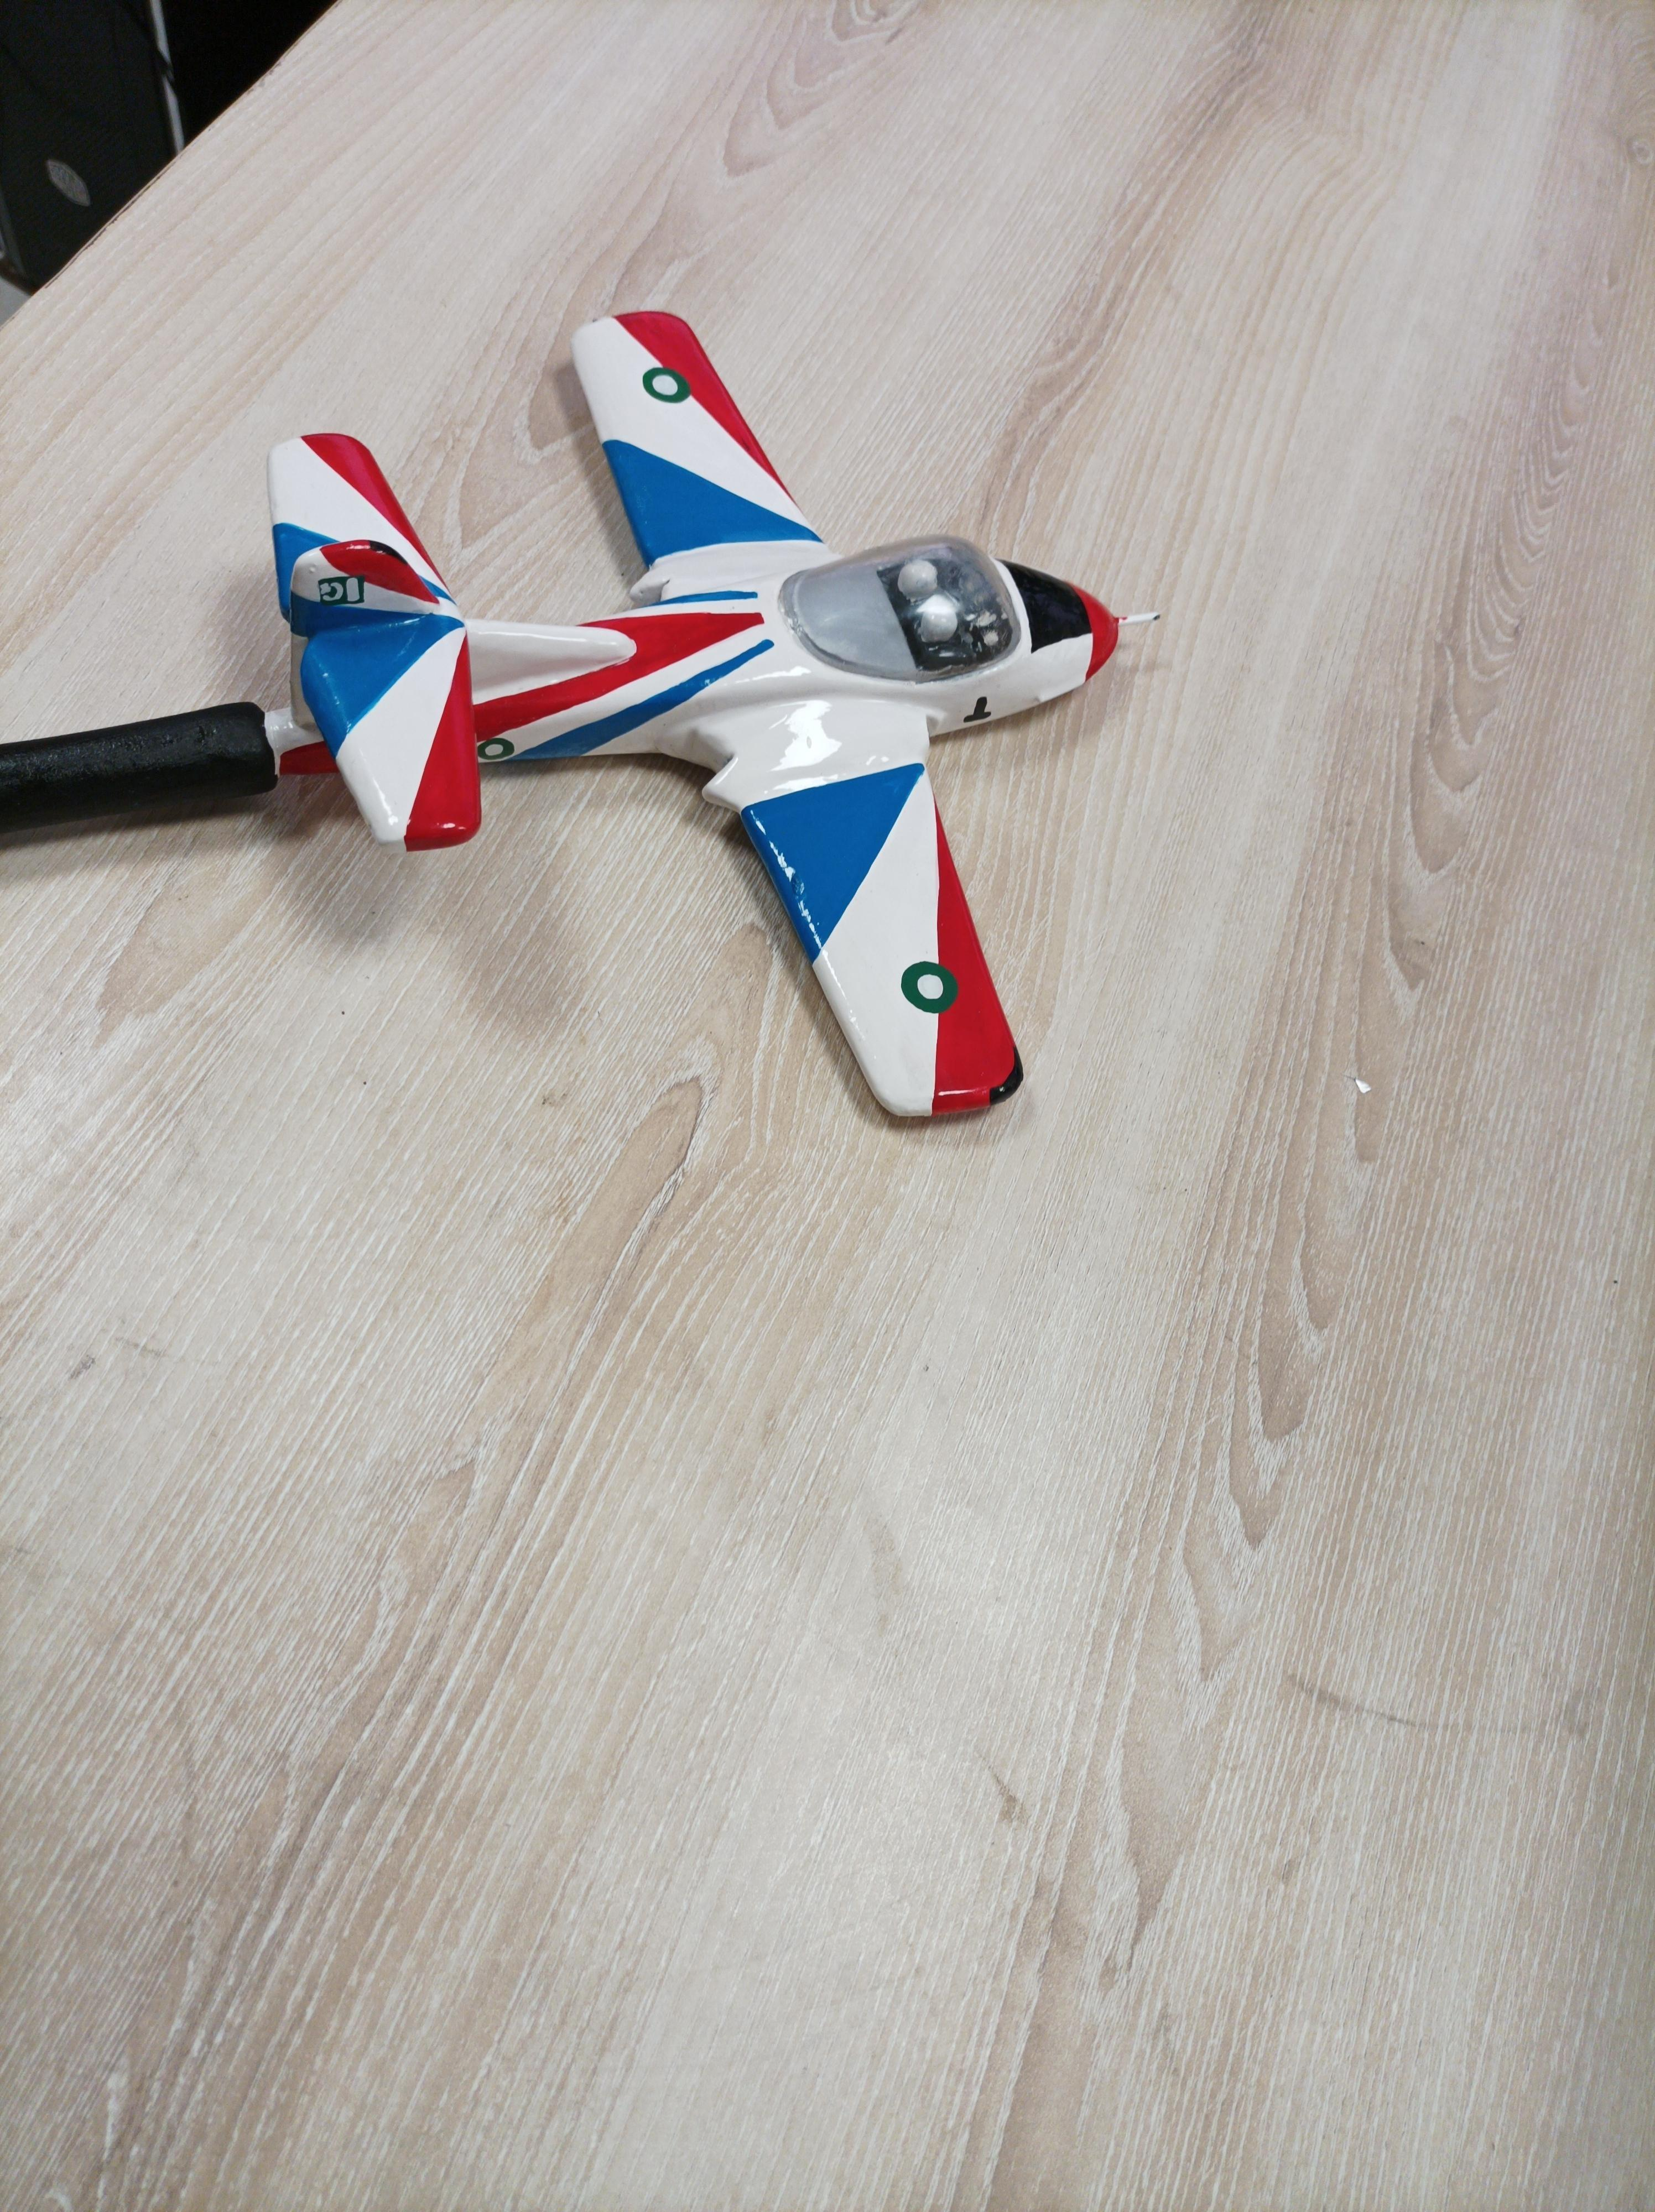Airplane: (243, 276, 1180, 1154)
